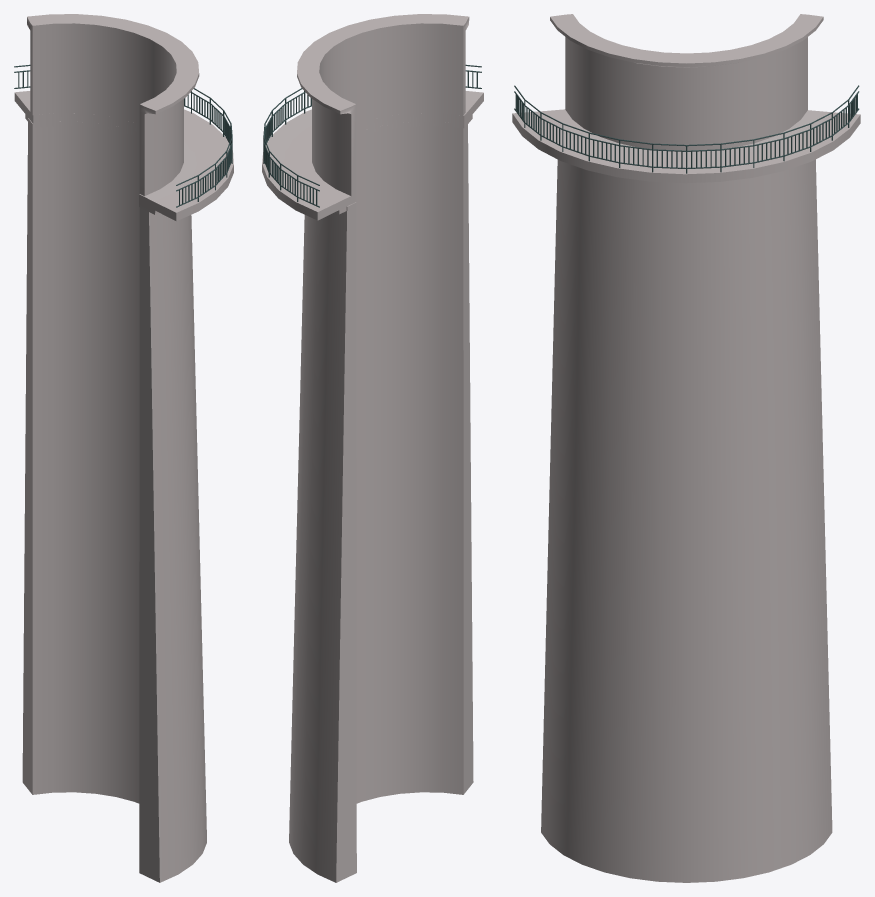
File: WallHidden.fbx
3 views of the same model, side by side, from view 1: azimuth 30°, elevation 25°; view 2: azimuth 150°, elevation 25°; view 3: azimuth 270°, elevation 25° (orthographic). The views are drawn at different scales.
Parts seen in each view (by area): view 1: wallHide, operatingroomHide, balconyHide, railingHide; view 2: wallHide, operatingroomHide, balconyHide, railingHide; view 3: wallHide, operatingroomHide, balconyHide, railingHide.
Boxes of the visible parts, bbox=[...] form: wallHide: bbox=[22, 118, 206, 882]; operatingroomHide: bbox=[27, 14, 199, 196]; balconyHide: bbox=[14, 91, 233, 221]; railingHide: bbox=[14, 64, 232, 207]; wallHide: bbox=[289, 121, 473, 882]; operatingroomHide: bbox=[297, 14, 469, 196]; balconyHide: bbox=[262, 91, 483, 220]; railingHide: bbox=[263, 64, 481, 207]; wallHide: bbox=[541, 159, 832, 882]; operatingroomHide: bbox=[550, 14, 823, 150]; balconyHide: bbox=[512, 109, 860, 183]; railingHide: bbox=[514, 85, 859, 173].
Size of the model in its own units: 468 by 2717 by 1051.
